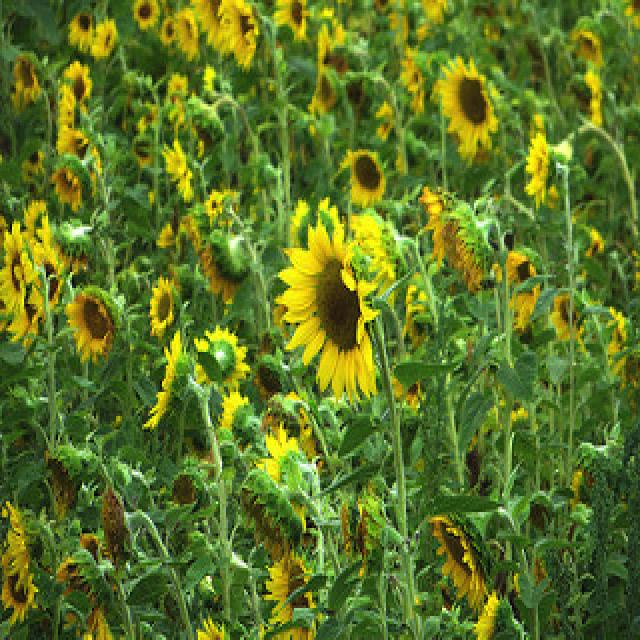sunflower: (276, 217, 384, 393), (434, 51, 498, 159), (429, 508, 483, 607), (265, 547, 317, 640), (0, 499, 36, 626), (140, 329, 182, 432), (506, 240, 543, 333), (63, 287, 112, 355), (198, 322, 246, 388), (0, 220, 34, 312), (218, 0, 260, 67), (522, 111, 550, 206), (345, 146, 390, 201), (53, 156, 83, 214), (149, 278, 174, 335)
